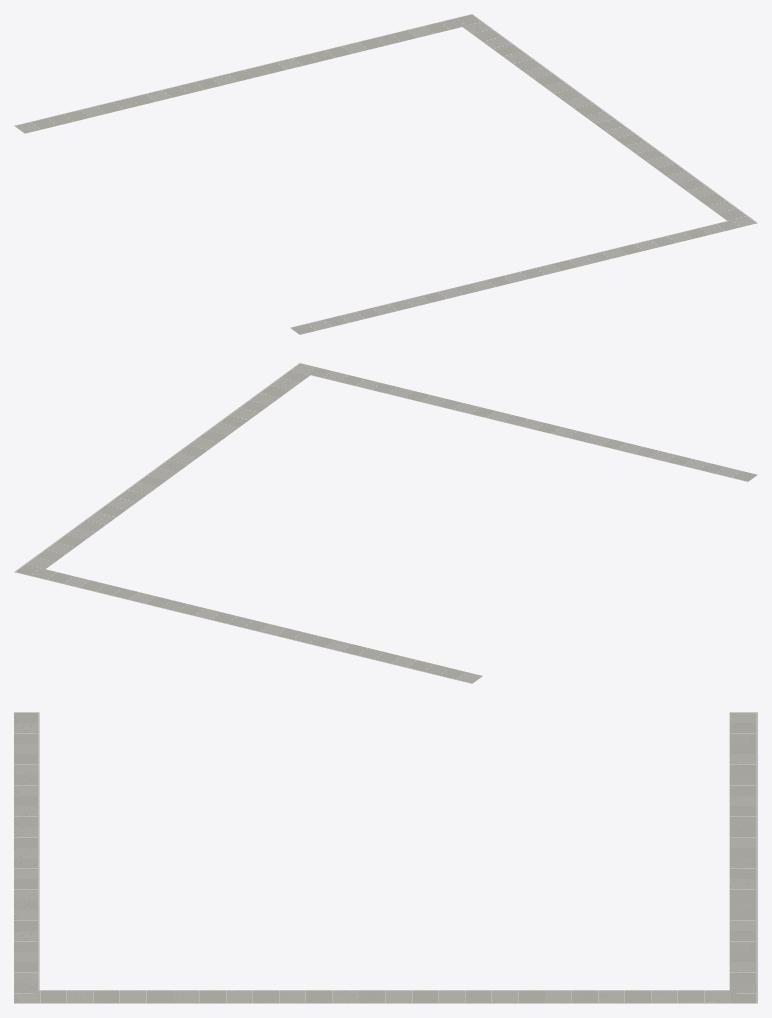
The model's file is kd_stage_135c43_3_0_bounded_piece_1.glb.
The picture shows the model from 3 angles, top to bottom: view 1: azimuth 30°, elevation 25°; view 2: azimuth 150°, elevation 25°; view 3: azimuth 270°, elevation 25°; orthographic projection. The views are drawn at different scales.
Visible parts, largest first — view 1: kd_stage_135c43_3_0_bounded_piece_1; view 2: kd_stage_135c43_3_0_bounded_piece_1; view 3: kd_stage_135c43_3_0_bounded_piece_1.
Part boxes in pixels (x1,y1,x2,y2): kd_stage_135c43_3_0_bounded_piece_1: (14, 14, 757, 334); kd_stage_135c43_3_0_bounded_piece_1: (14, 363, 757, 683); kd_stage_135c43_3_0_bounded_piece_1: (14, 712, 757, 1003).
Size of the model in its own units: 2.69 by 1.79e-07 by 2.9.
1 material, 1 textured.
